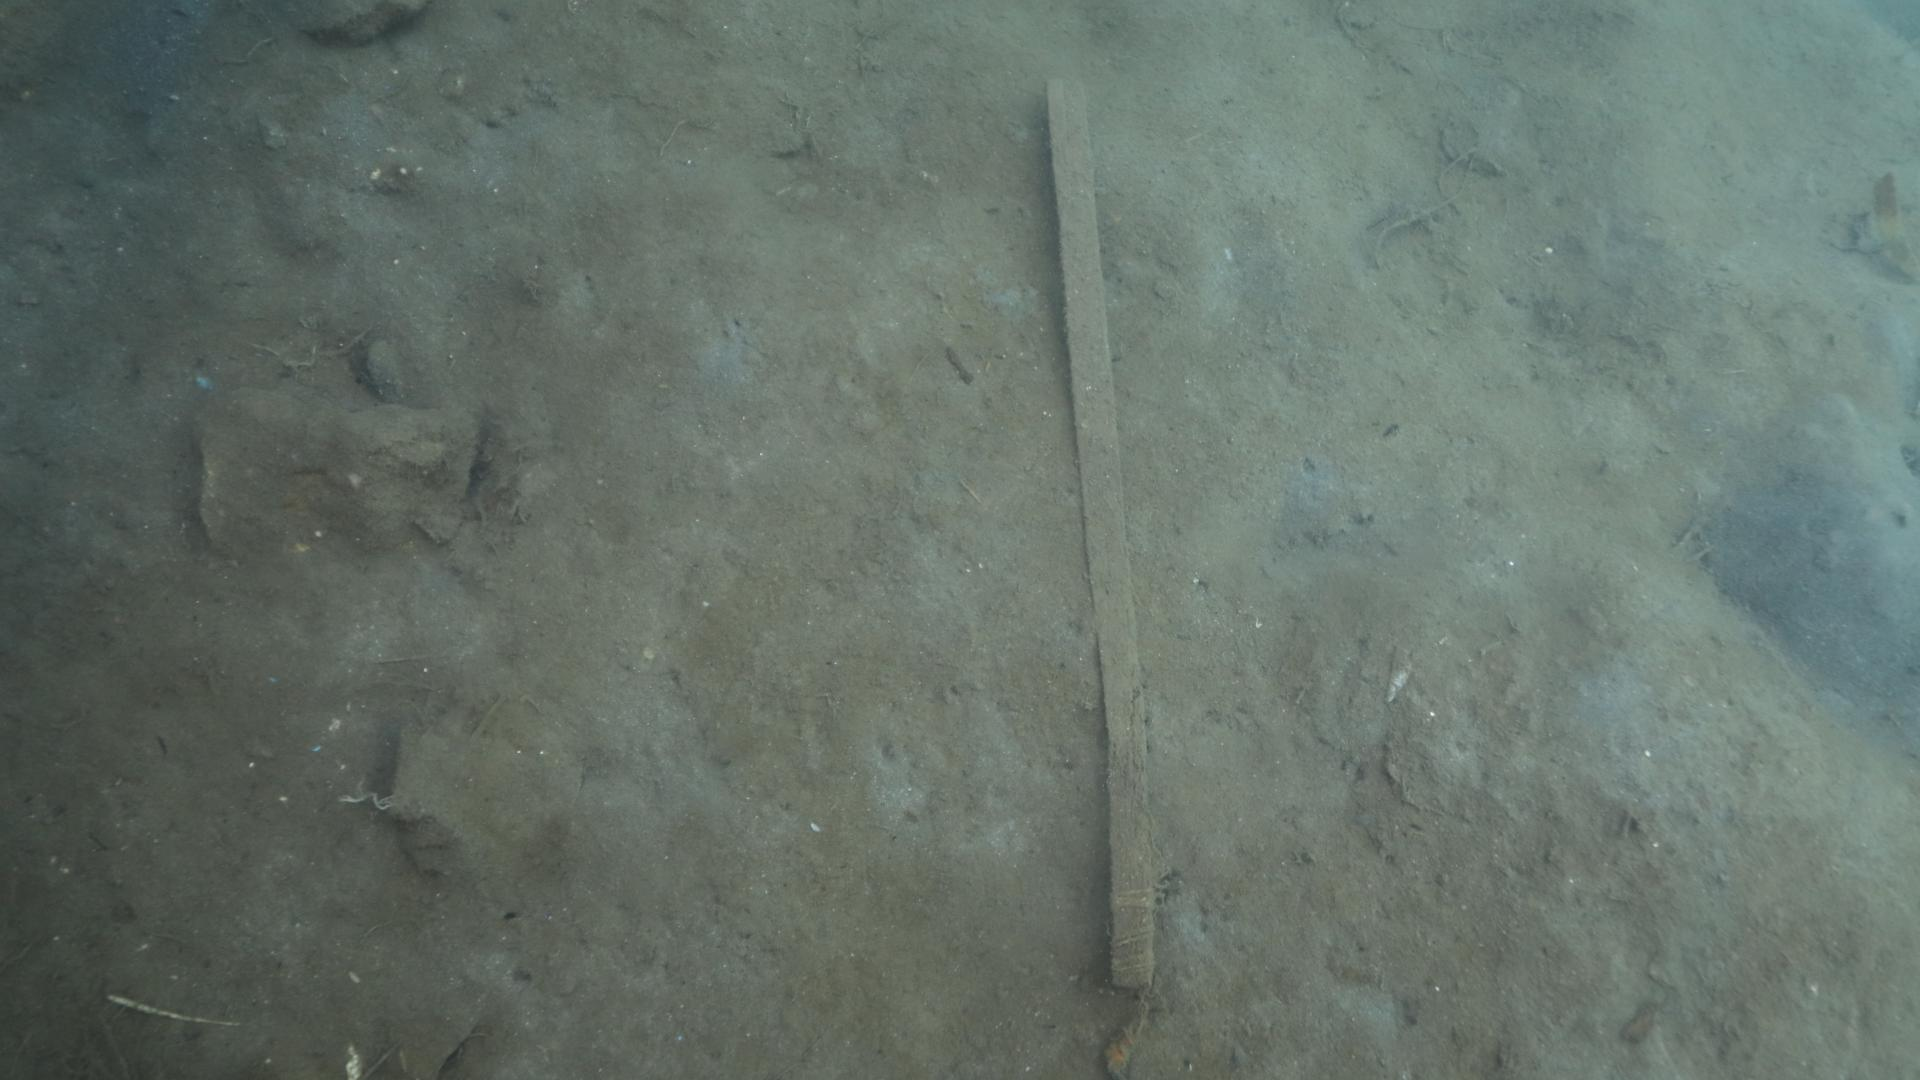wood: (1042, 74, 1156, 989)
